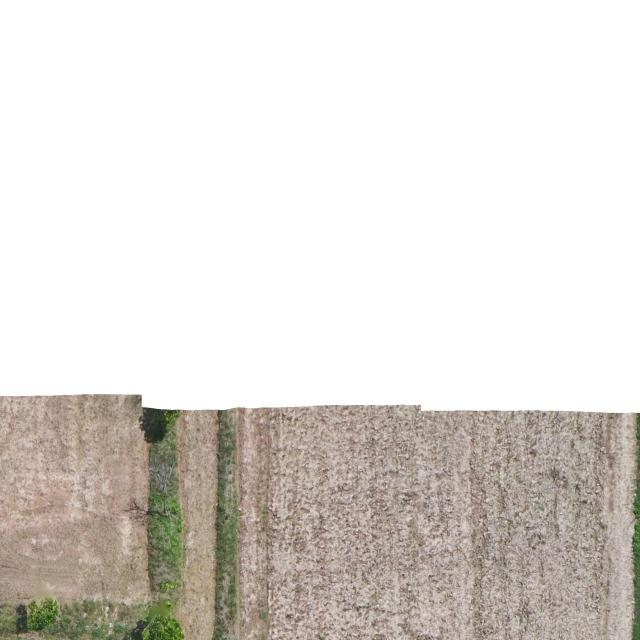Tree: (24, 595, 61, 633), (140, 614, 186, 640)
